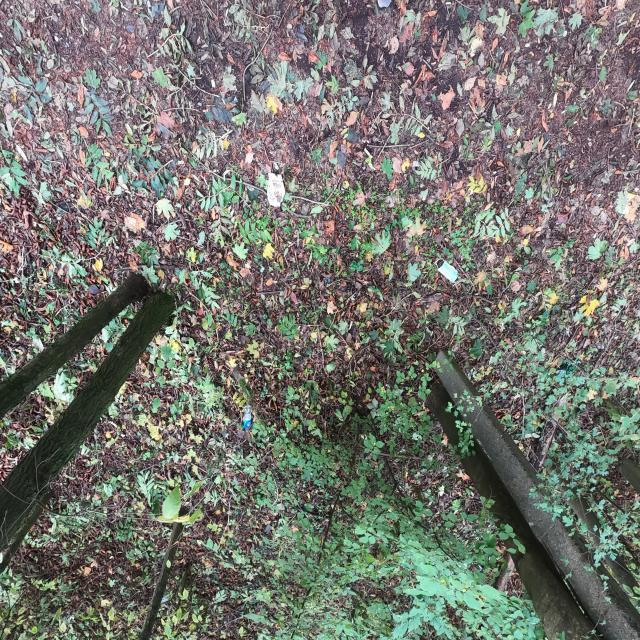rubbish: (353, 431, 374, 468), (182, 357, 206, 382), (58, 267, 85, 281), (389, 205, 398, 236)
